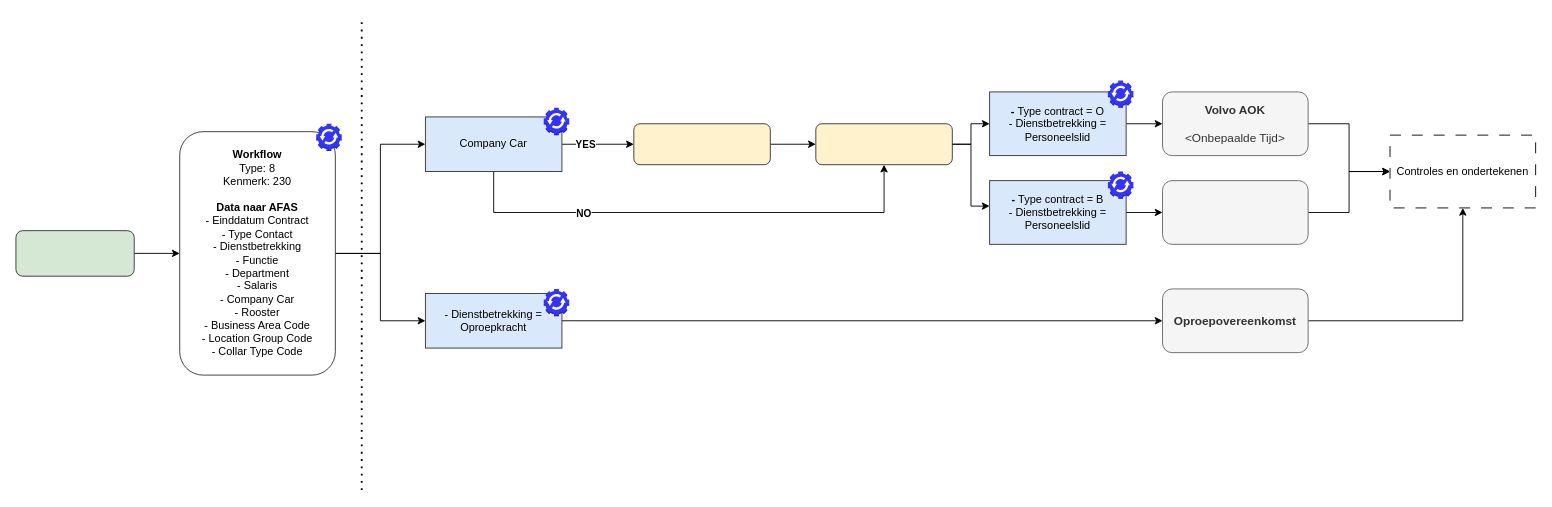
The diagram is 1552 pixels wide and 507 high, and some of its shapes have lost their labels. Each missing label, with the centre of its shape:
"Kies type company car" belongs at (x=701, y=144).
"Medewerker contract verlengd" belongs at (x=74, y=253).
"Rooster aanpassen" belongs at (x=883, y=144).
"Volvo AOK <Bepaalde Tijd>" belongs at (x=1235, y=212).
